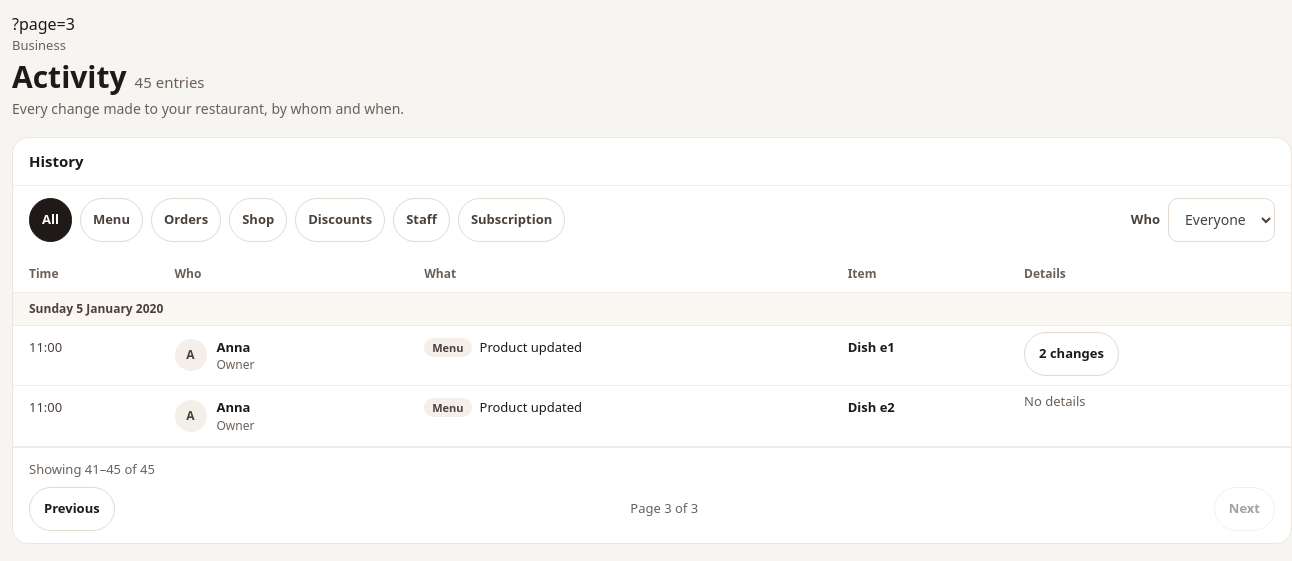
ActivityPage › area chip sends area, writes the URL and resets page to 1
Later steps or results of the test are not shown.
Click the button "Menu". click: (111, 220)
box: left=80, top=198, right=143, bottom=242
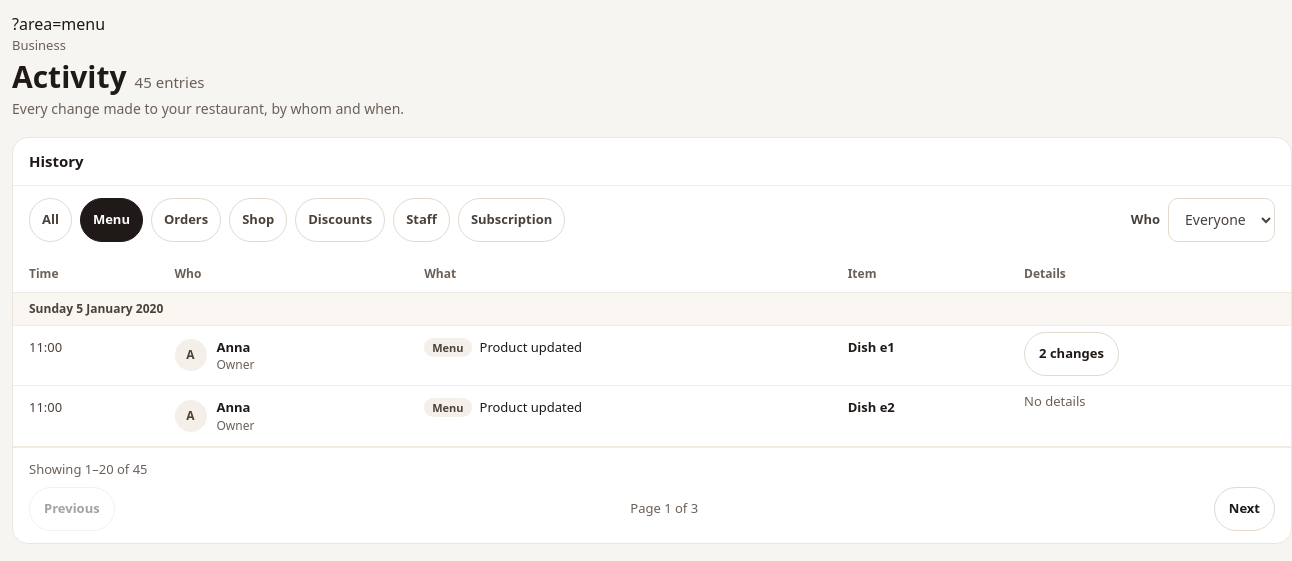
Expected: the text with test id "loc" reads "?area=menu", left=12, top=13, right=105, bottom=35
